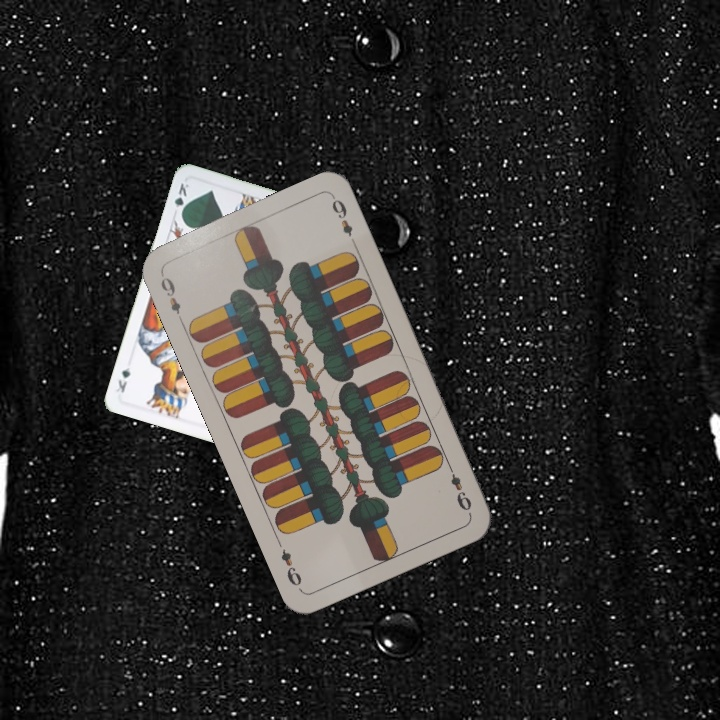E9: (443, 460, 475, 514), (156, 269, 186, 325)
GK: (170, 179, 193, 219)
